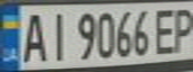0: (93, 7, 118, 60)
6: (130, 6, 154, 57), (115, 7, 136, 58)
9: (72, 8, 96, 61)
A: (15, 8, 48, 63)
E: (151, 4, 181, 55)
I: (42, 8, 69, 62)
P: (169, 3, 193, 53)
